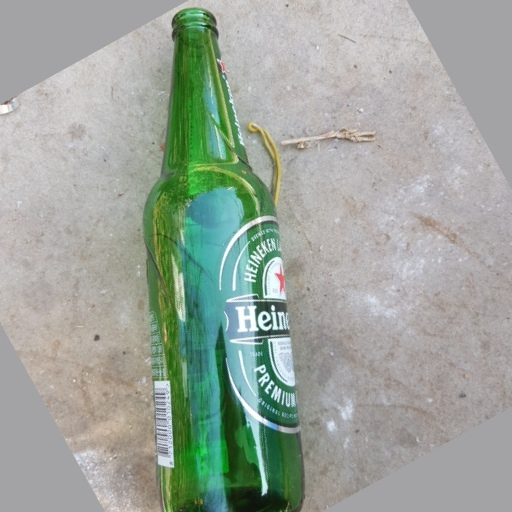Glass_1: (143, 7, 303, 512)
